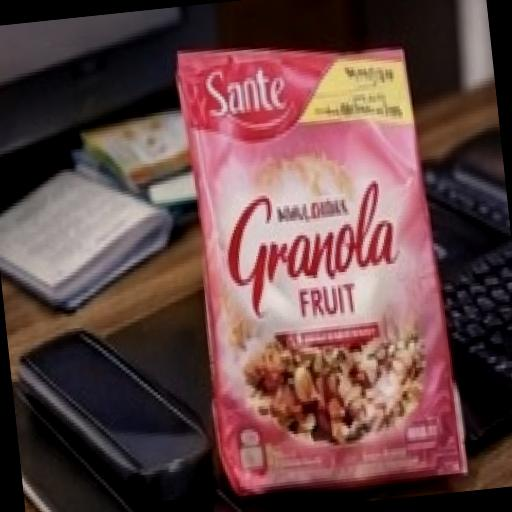granola: (136, 0, 499, 512)
